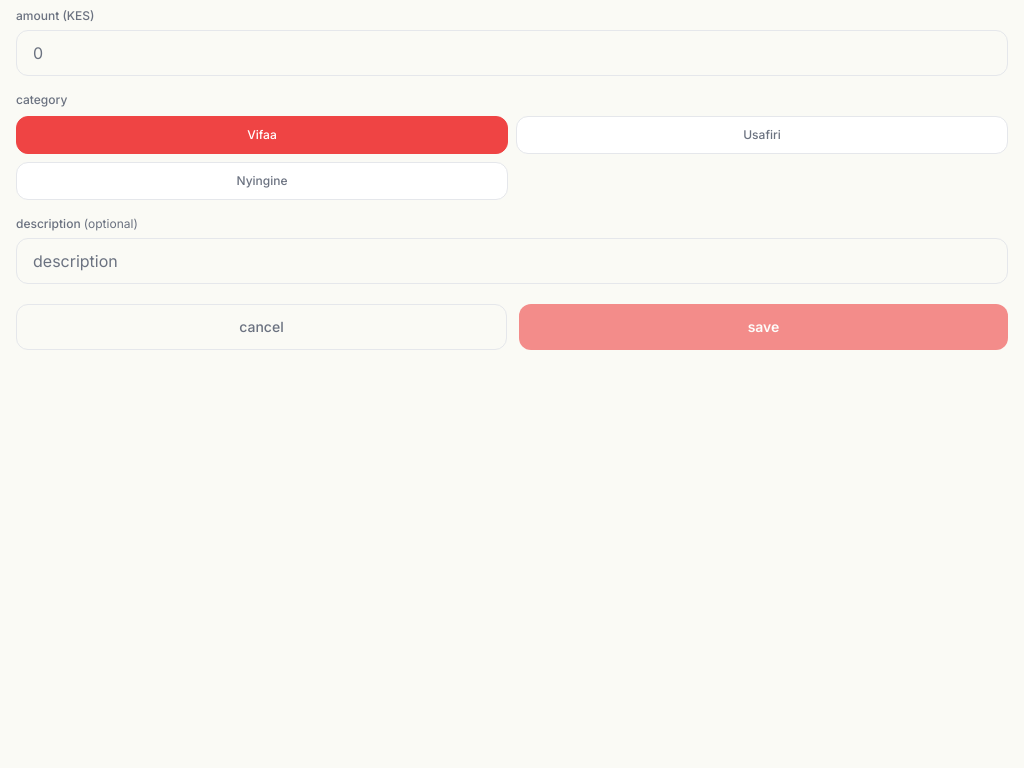
Test: RecordExpense › shows success flash after saving
In the number field with placeholder "0": x=512, y=53 [16, 30, 1008, 76], type "1500"
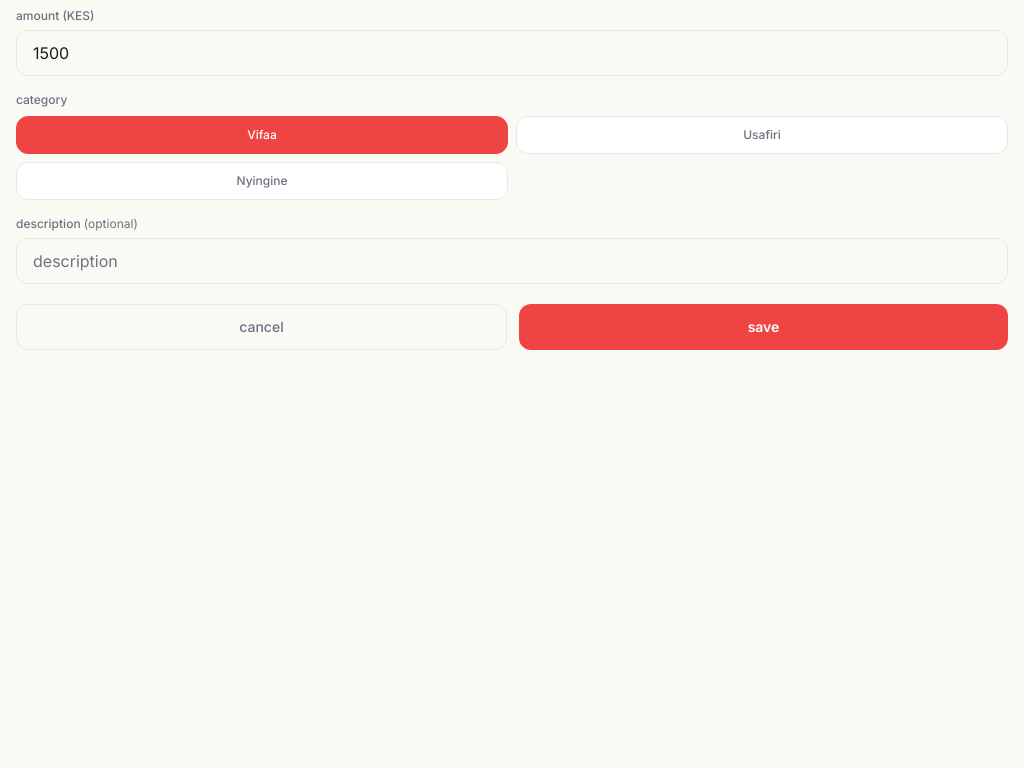
Click the button "save": x=764, y=327 [519, 304, 1008, 350]
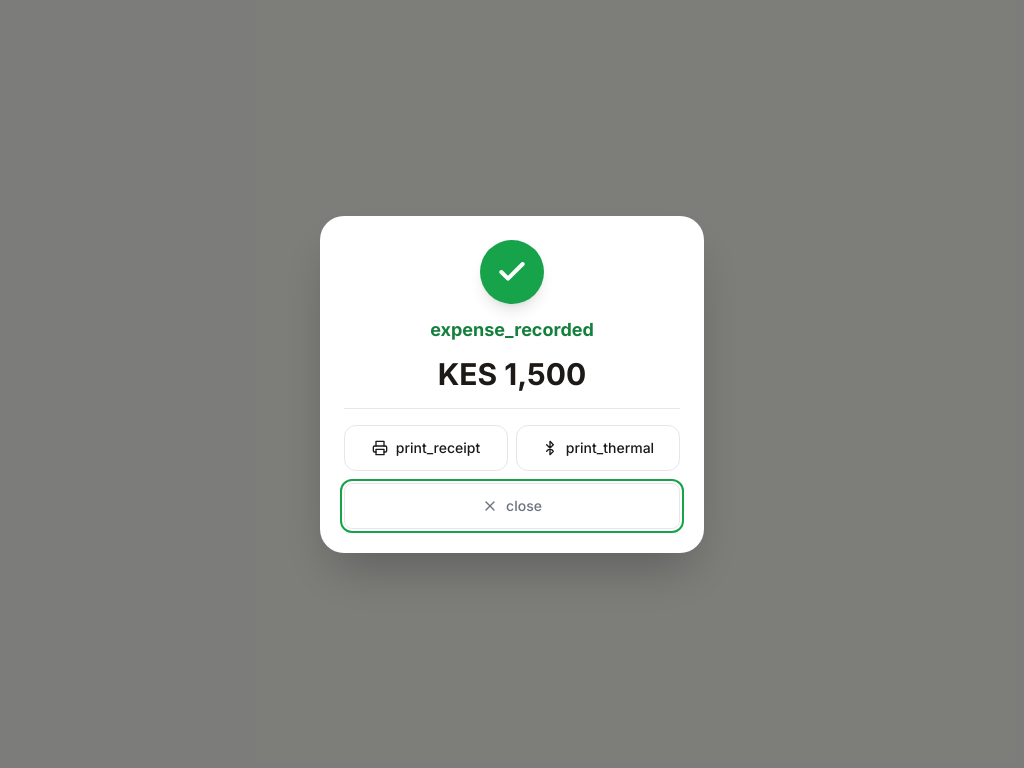
Expected: the text "KES 1,500" is shown, [438, 356, 586, 392]
